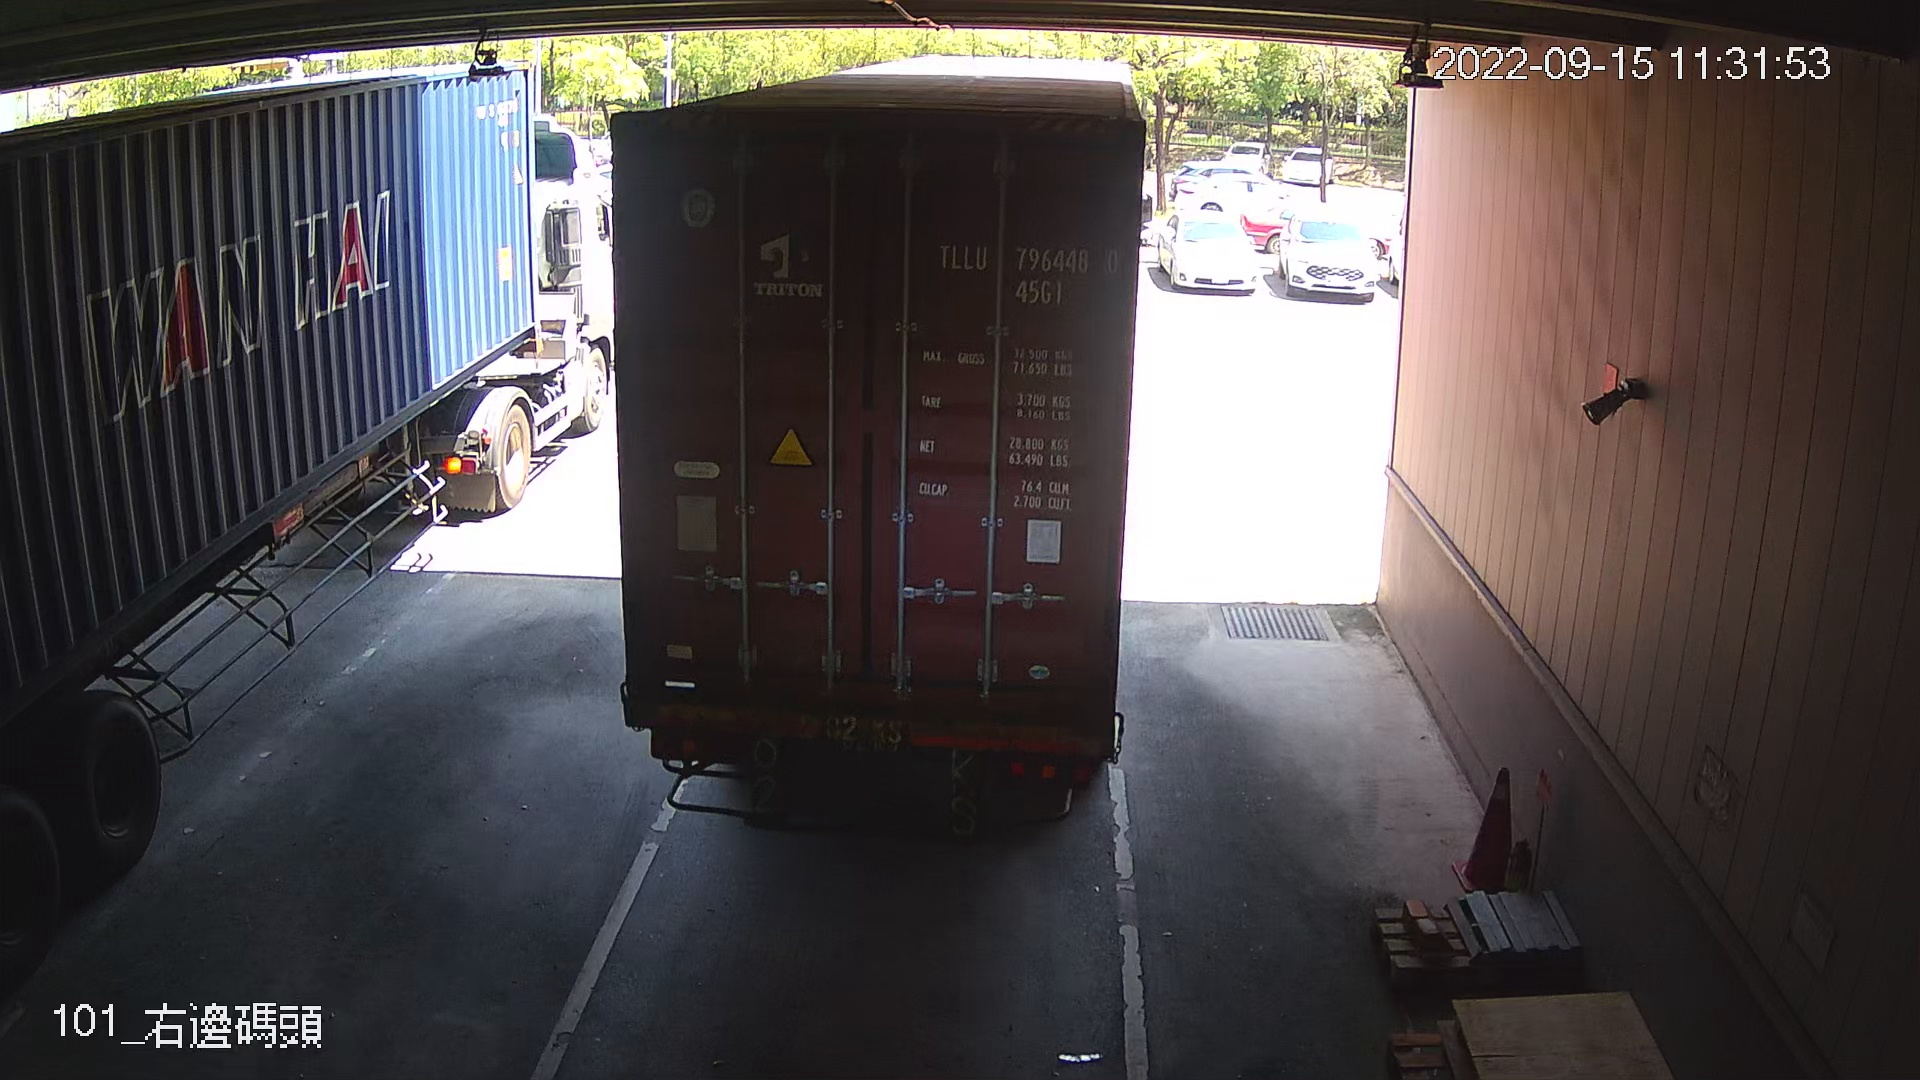container: (924, 232, 1125, 314)
